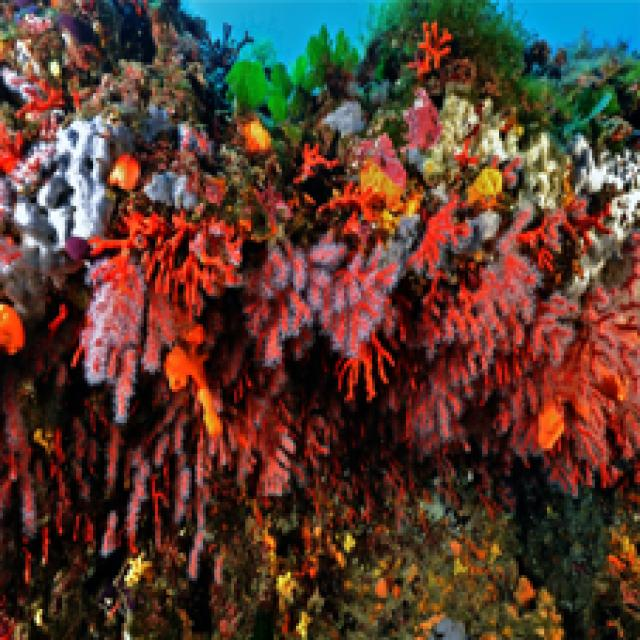Healthy: (1, 83, 638, 503)
